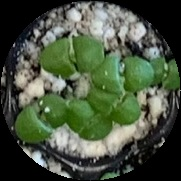Basil: (14, 93, 65, 143), (42, 34, 104, 73), (92, 55, 154, 91), (62, 99, 113, 142), (89, 85, 141, 124), (150, 60, 181, 93)
